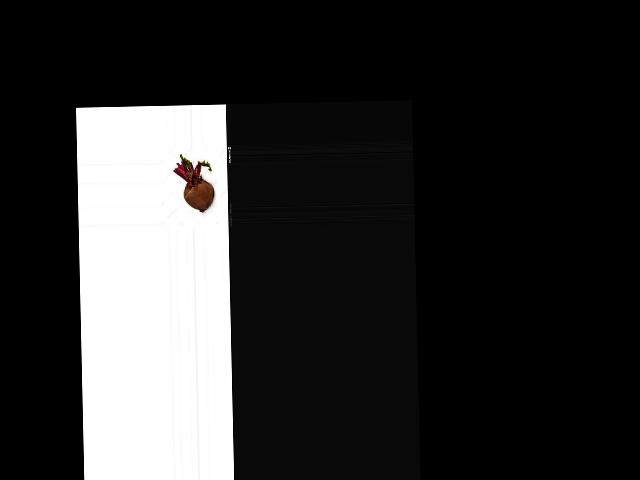beet: (173, 153, 214, 213)
